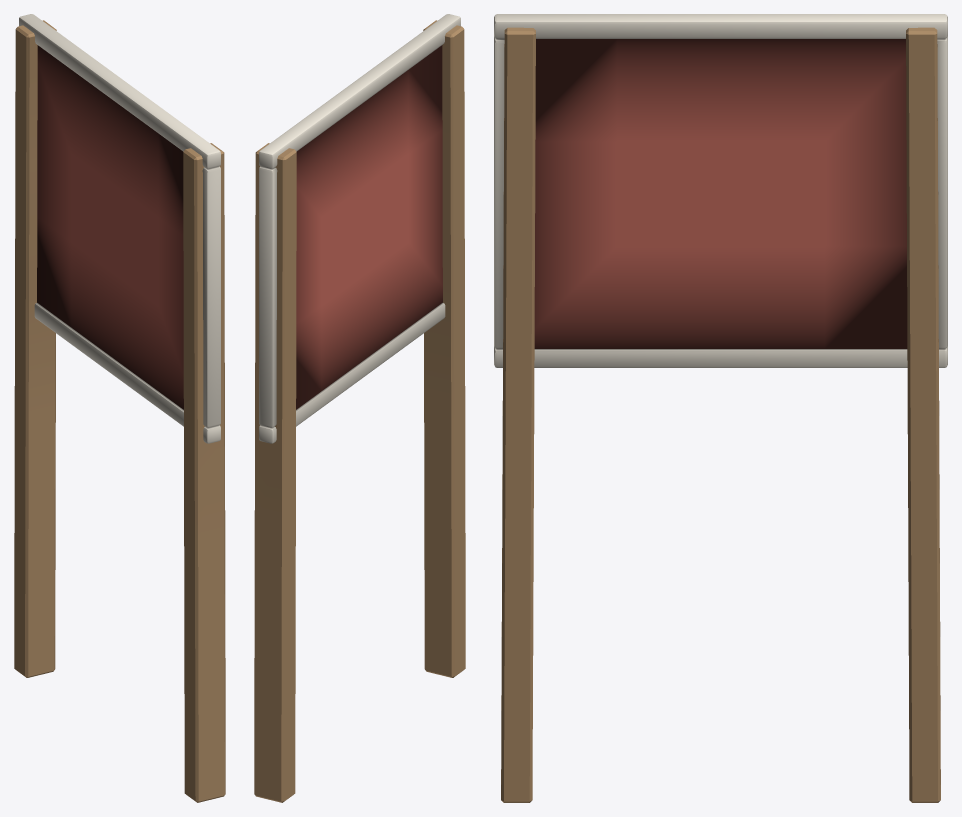
Rendered from board.glb.
3 views of the same model, side by side, from view 1: azimuth 30°, elevation 25°; view 2: azimuth 150°, elevation 25°; view 3: azimuth 270°, elevation 25° (orthographic). The views are drawn at different scales.
Visible parts, largest first — view 1: PART; view 2: PART; view 3: PART.
Boxes of the visible parts, bbox=[...] form: PART: bbox=[14, 14, 225, 802]; PART: bbox=[254, 14, 465, 802]; PART: bbox=[494, 14, 947, 802].
Size of the model in its own units: 0.12 by 2.46 by 1.3.
